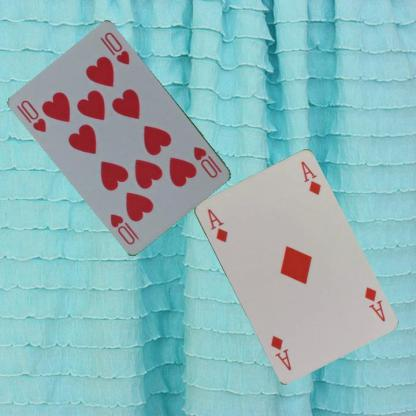10h: (190, 143, 224, 180), (18, 97, 48, 134)
Ad: (361, 284, 387, 323), (204, 206, 229, 244)
